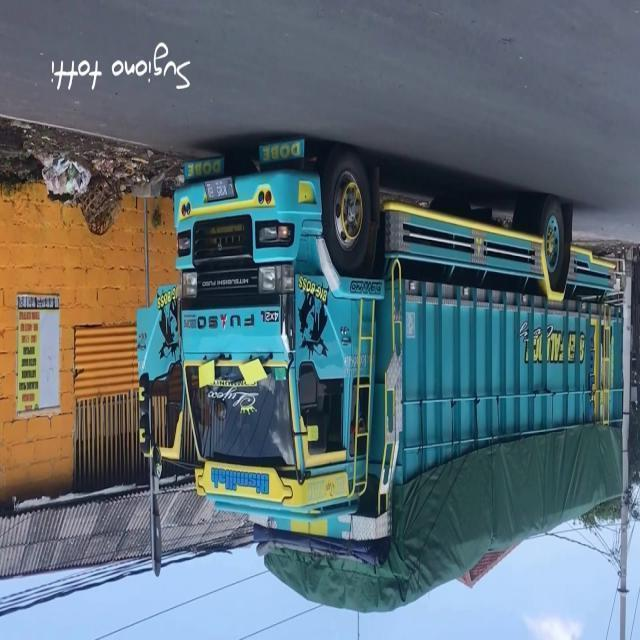truck: (137, 132, 628, 548)
